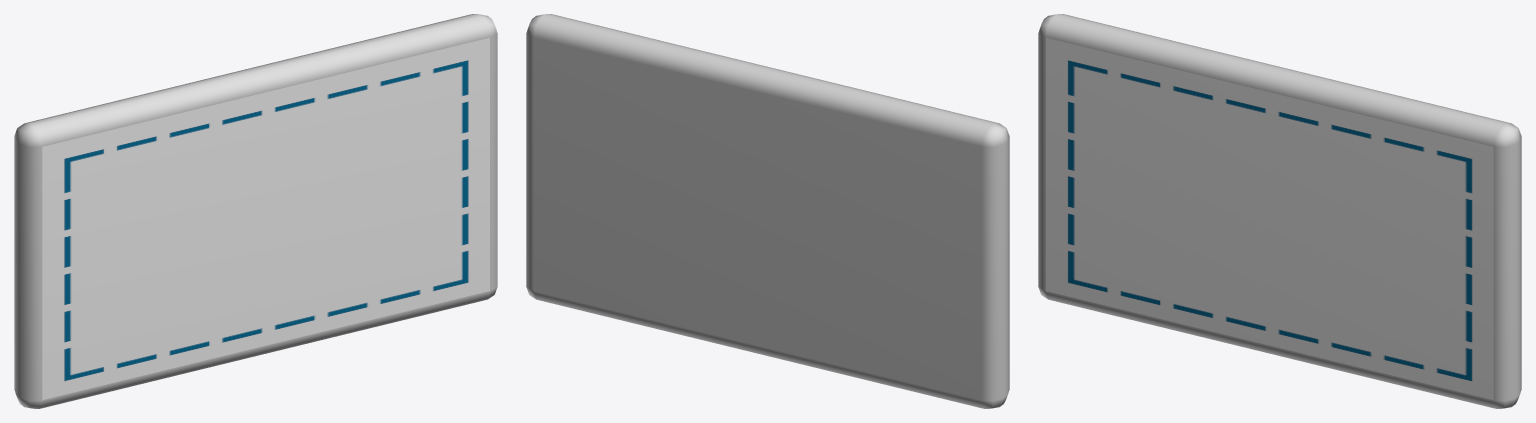
Rendered from Passport.fbx.
3 renders of one model, left to right at view 1: azimuth 30°, elevation 25°; view 2: azimuth 150°, elevation 25°; view 3: azimuth 330°, elevation 25°, orthographic.
Parts seen in each view (by area): view 1: pCube1; view 2: pCube1; view 3: pCube1.
Boxes of the visible parts, x1,y1,x2,y2 form: pCube1: (14, 14, 497, 408); pCube1: (526, 14, 1009, 408); pCube1: (1038, 14, 1521, 408).
Size of the model in its own units: 23.27 by 13.21 by 1.72.
